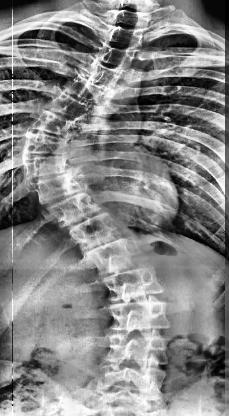Vertebrae: (86, 236, 150, 276), (101, 334, 171, 368), (102, 268, 166, 304), (70, 212, 128, 250), (98, 366, 166, 398), (46, 192, 106, 228), (107, 301, 171, 332), (77, 54, 124, 90), (34, 172, 82, 204), (66, 74, 108, 104), (94, 43, 140, 68), (104, 7, 154, 29), (26, 155, 70, 179), (34, 110, 74, 136), (100, 25, 146, 47), (30, 131, 72, 155), (49, 93, 87, 119)
